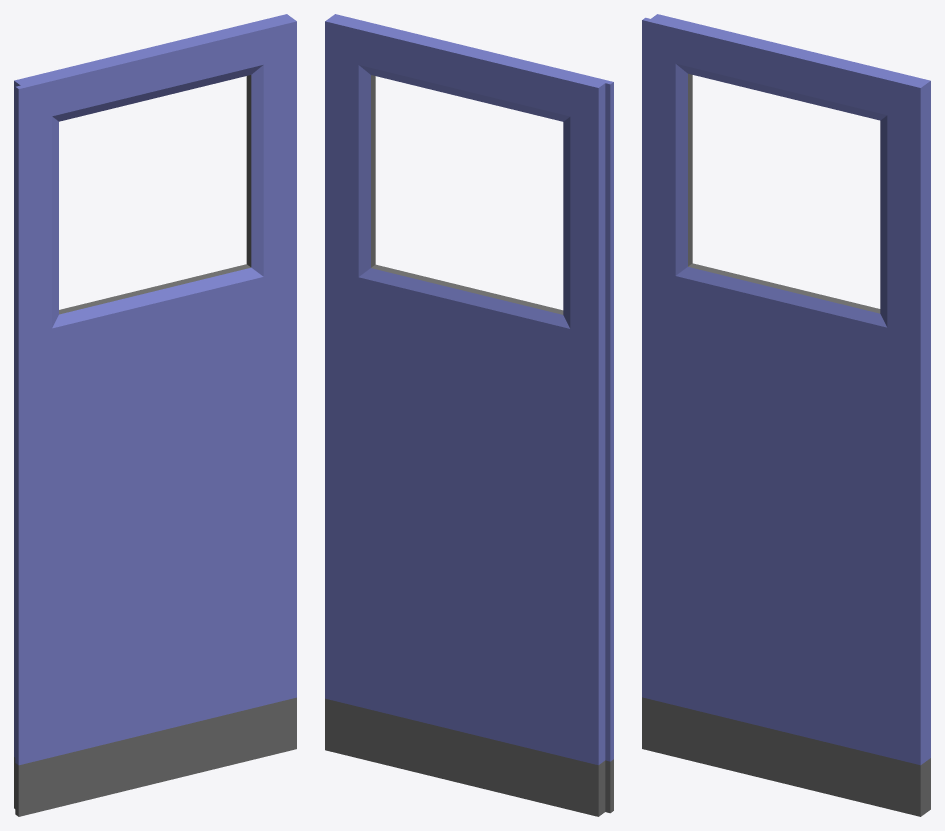
The model's file is dvereServerovna.fbx.
3 views of the same model, side by side, from view 1: azimuth 30°, elevation 25°; view 2: azimuth 150°, elevation 25°; view 3: azimuth 330°, elevation 25° (orthographic).
Visible parts, largest first — view 1: ServerovnaDvere; view 2: ServerovnaDvere; view 3: ServerovnaDvere.
Boxes of the visible parts, x1,y1,x2,y2 form: ServerovnaDvere: [14, 14, 296, 816]; ServerovnaDvere: [325, 14, 613, 816]; ServerovnaDvere: [642, 14, 930, 816].
Size of the model in its own units: 80 by 200 by 5.
